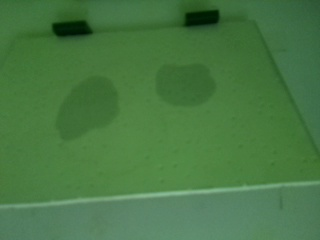Water_detected: (75, 83, 114, 137), (167, 71, 215, 104)
